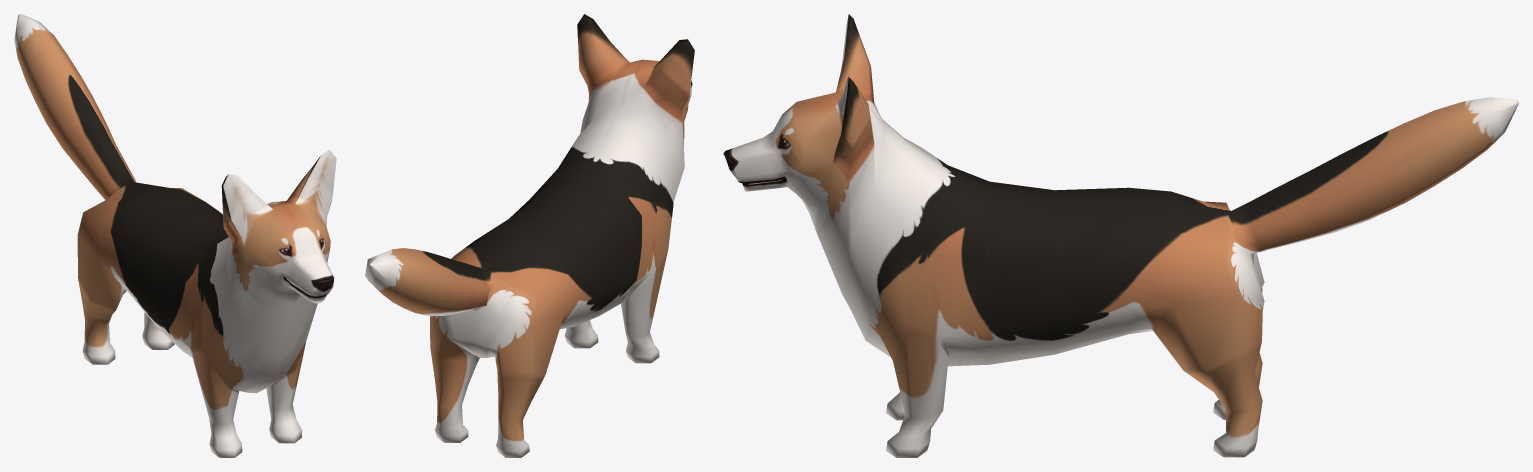
File: Sea_Resized.fbx
The picture shows the model from 3 angles, left to right: view 1: azimuth 30°, elevation 25°; view 2: azimuth 150°, elevation 25°; view 3: azimuth 270°, elevation 25°; orthographic projection. The views are drawn at different scales.
Parts seen in each view (by area): view 1: seabiscuit_model; view 2: seabiscuit_model; view 3: seabiscuit_model.
Boxes of the visible parts, left/top/right/bottom form: seabiscuit_model: left=14, top=14, right=336, bottom=457; seabiscuit_model: left=365, top=14, right=694, bottom=457; seabiscuit_model: left=723, top=14, right=1518, bottom=457.
Size of the model in its own units: 92.58 by 234 by 436.
